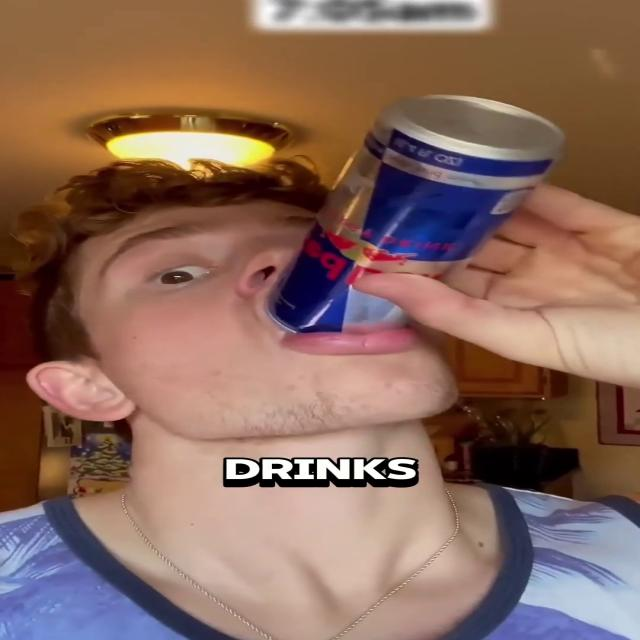Can: (267, 97, 561, 341)
Hand: (351, 161, 639, 393)
Mouth: (250, 307, 440, 361)
